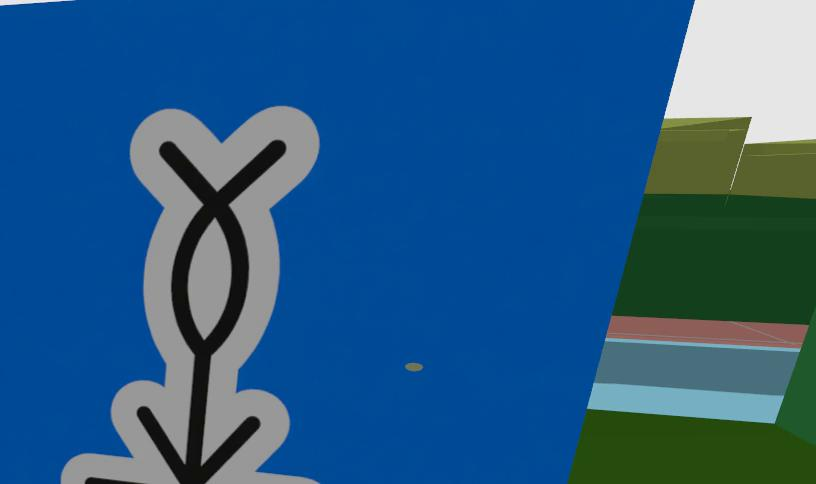KFS_REAL: (0, 0, 690, 484), (61, 106, 319, 484)
